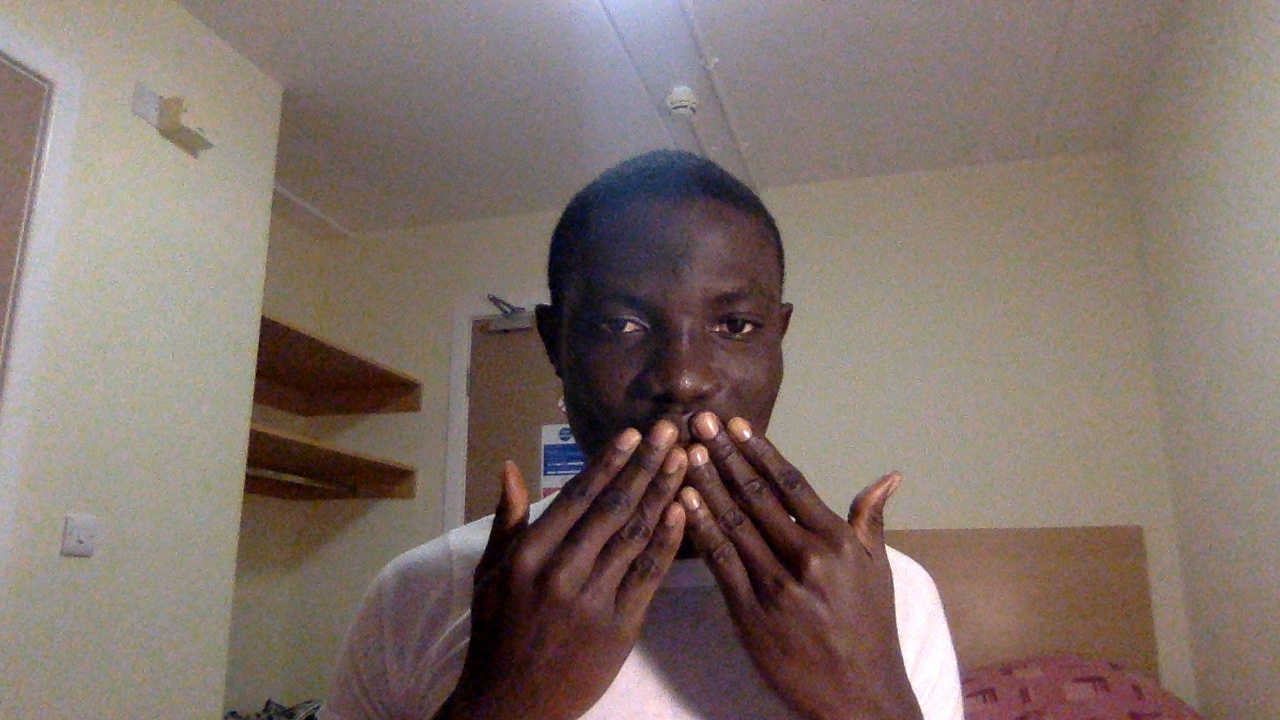Thank You: (462, 414, 927, 720)
